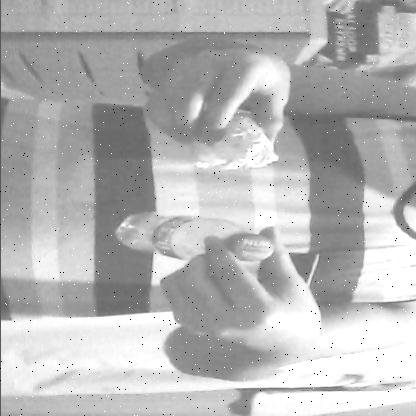Plastic Bottle: (104, 206, 281, 268)
